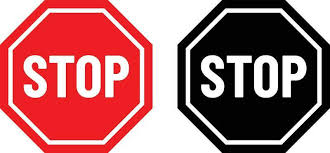stop sign: (1, 1, 153, 153), (179, 1, 330, 153)
